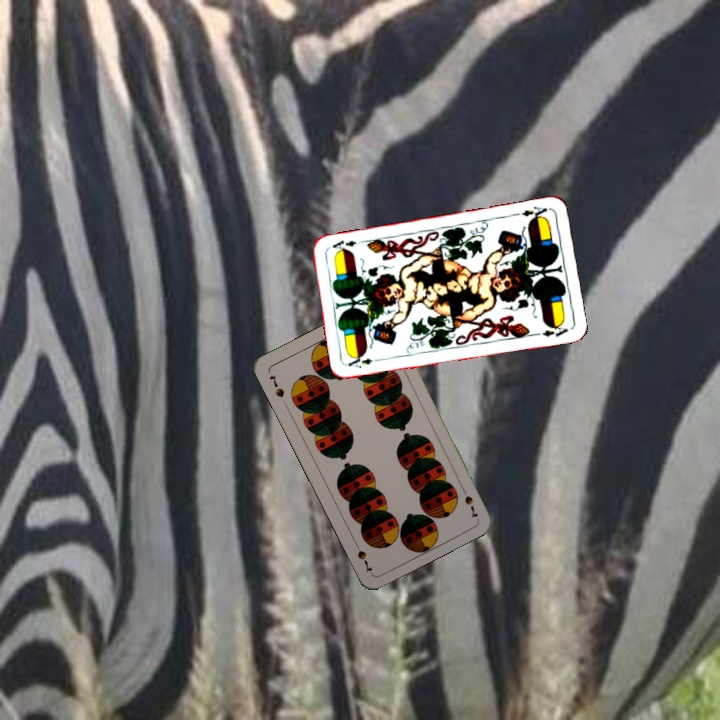EA: (510, 202, 550, 223), (345, 354, 385, 371)
S7: (457, 482, 481, 521), (265, 371, 287, 400)
